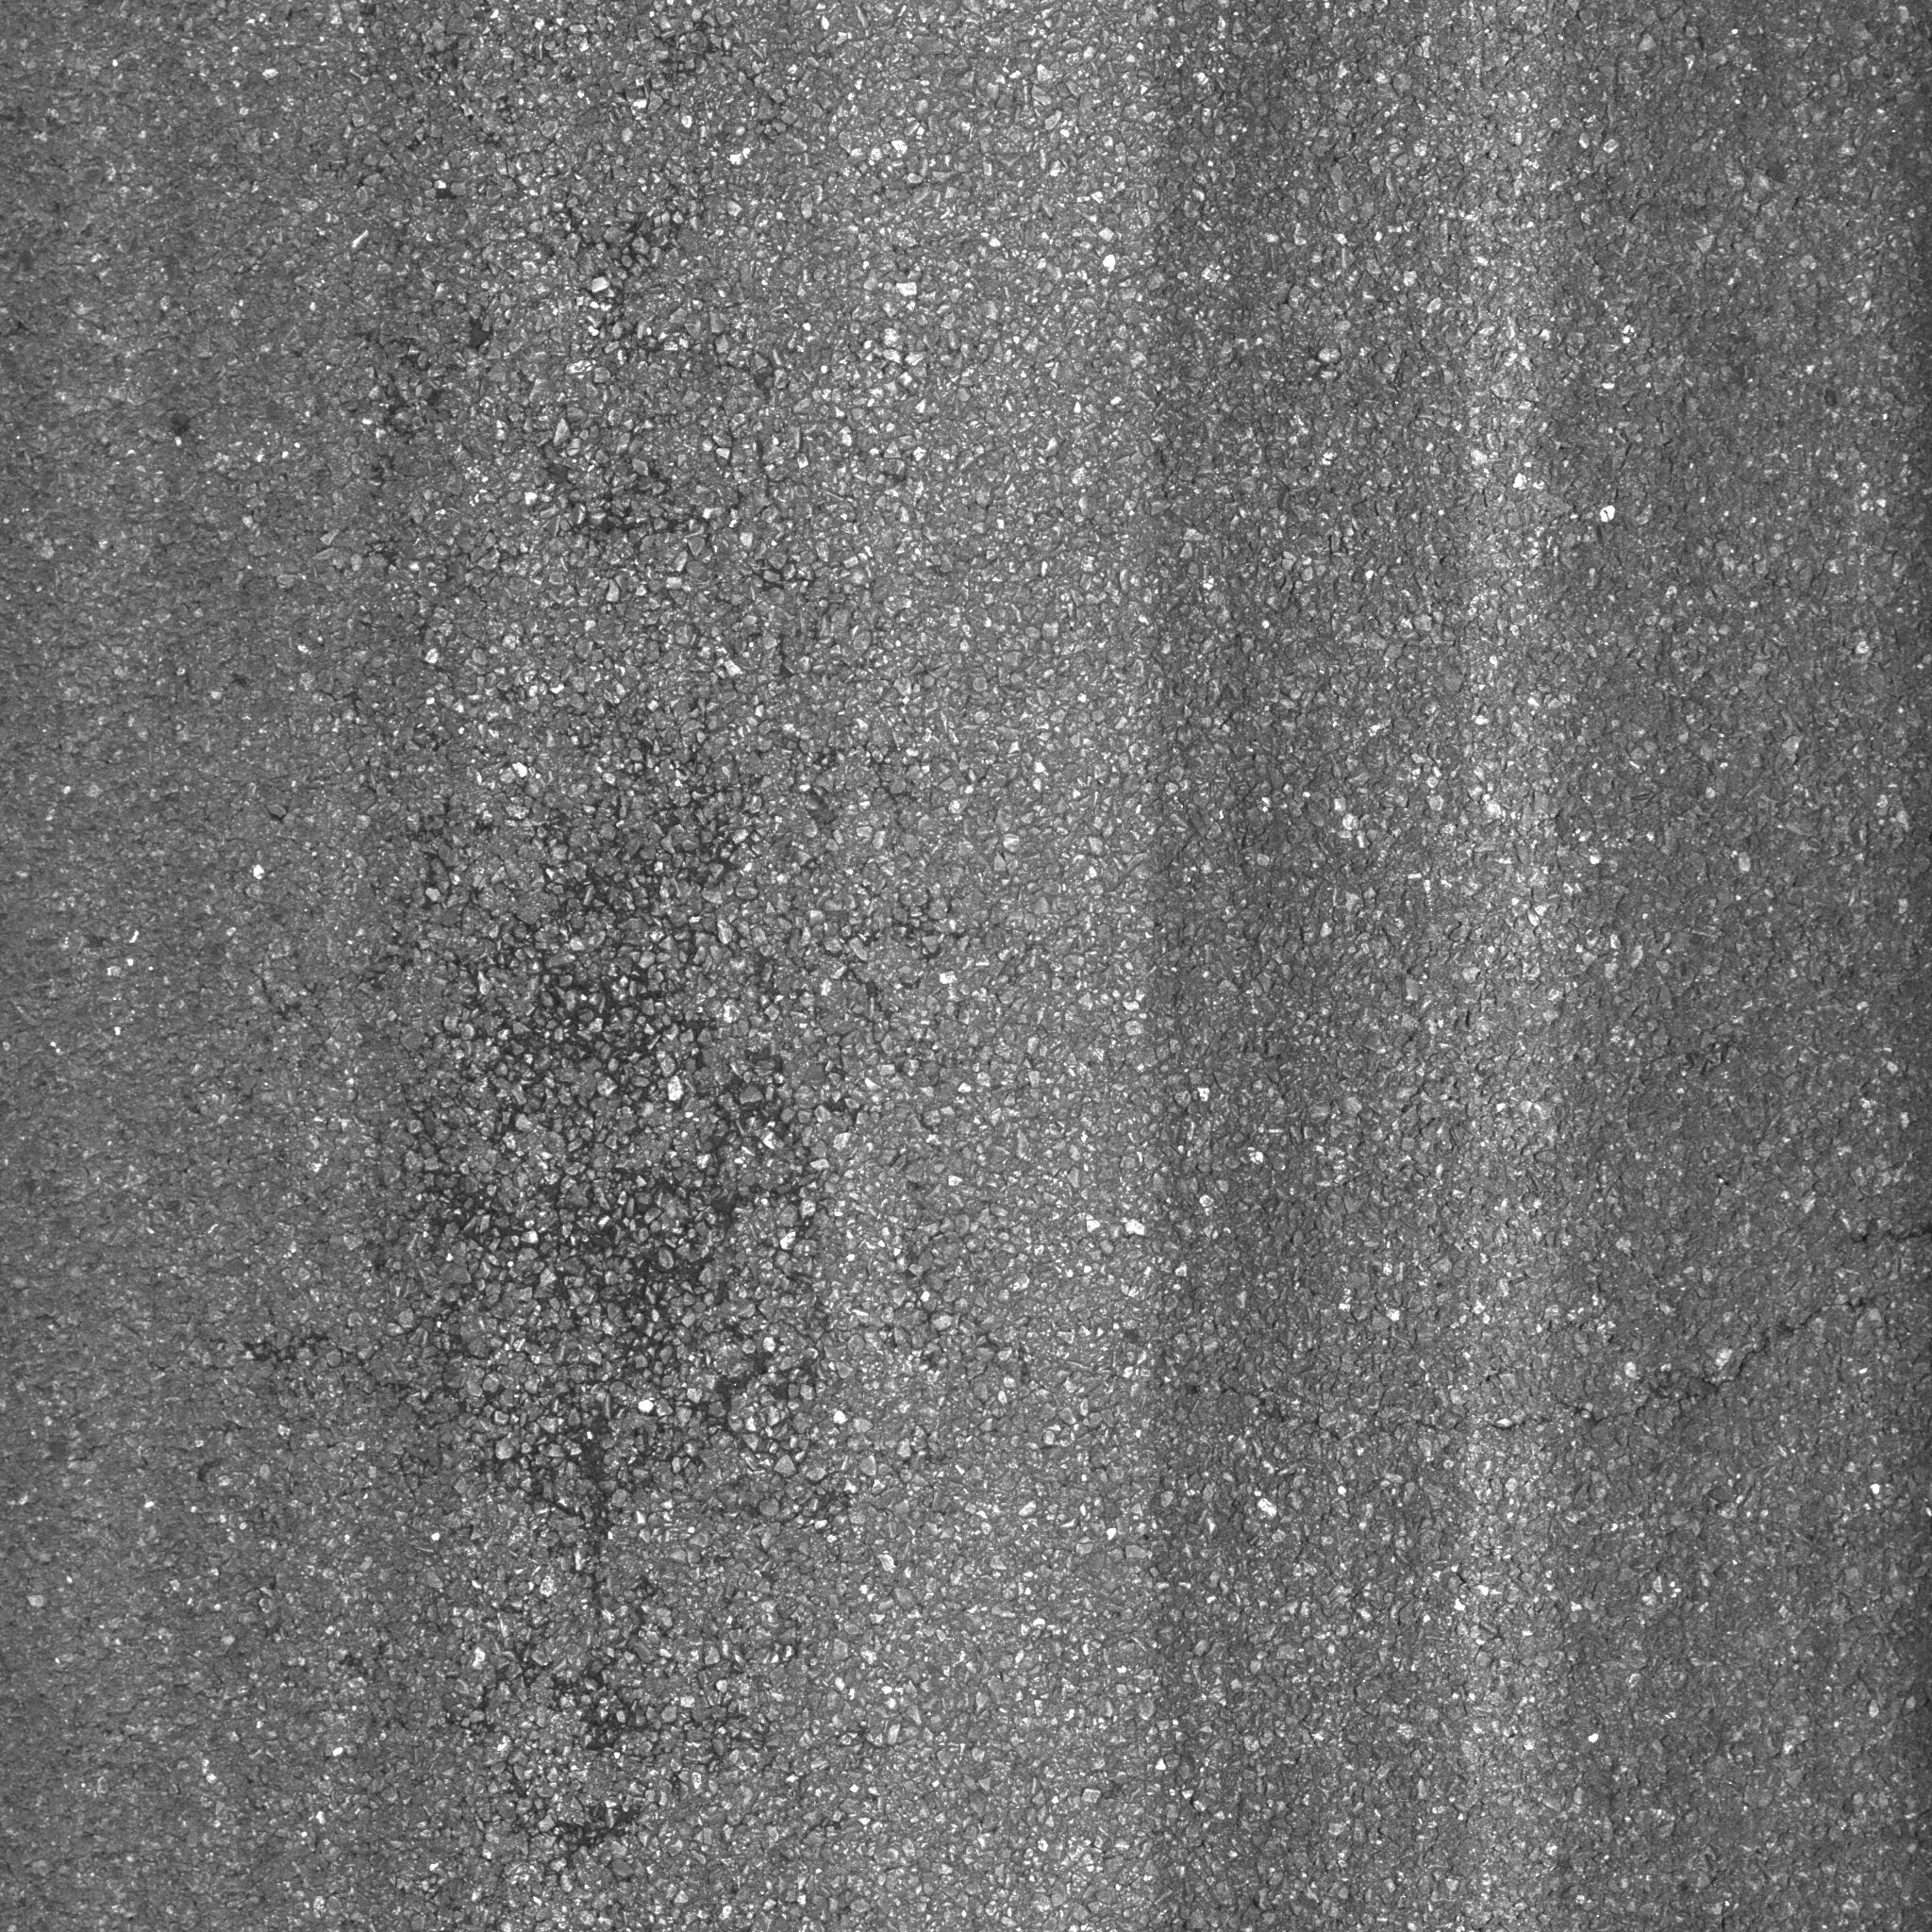transeverse: (1007, 1203, 1932, 1460)
